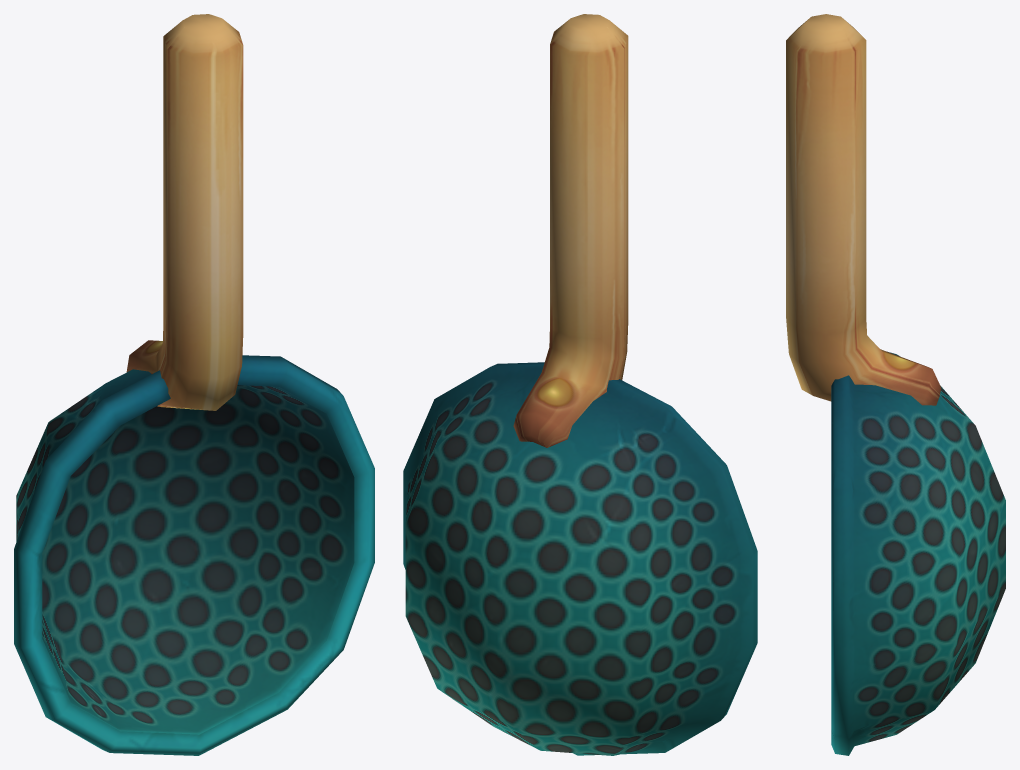
Rendered from SE_Strainer_01.fbx.
3 views of the same model, side by side, from view 1: azimuth 30°, elevation 25°; view 2: azimuth 150°, elevation 25°; view 3: azimuth 270°, elevation 25° (orthographic). The views are drawn at different scales.
Parts seen in each view (by area): view 1: SE_Strainer_01; view 2: SE_Strainer_01; view 3: SE_Strainer_01.
Part boxes in pixels (<box>): SE_Strainer_01: <box>14,14,374,755</box>; SE_Strainer_01: <box>403,14,757,755</box>; SE_Strainer_01: <box>786,14,1005,755</box>.
Bounding box in the file's own units: 1.31 × 2.61 × 0.7269.
